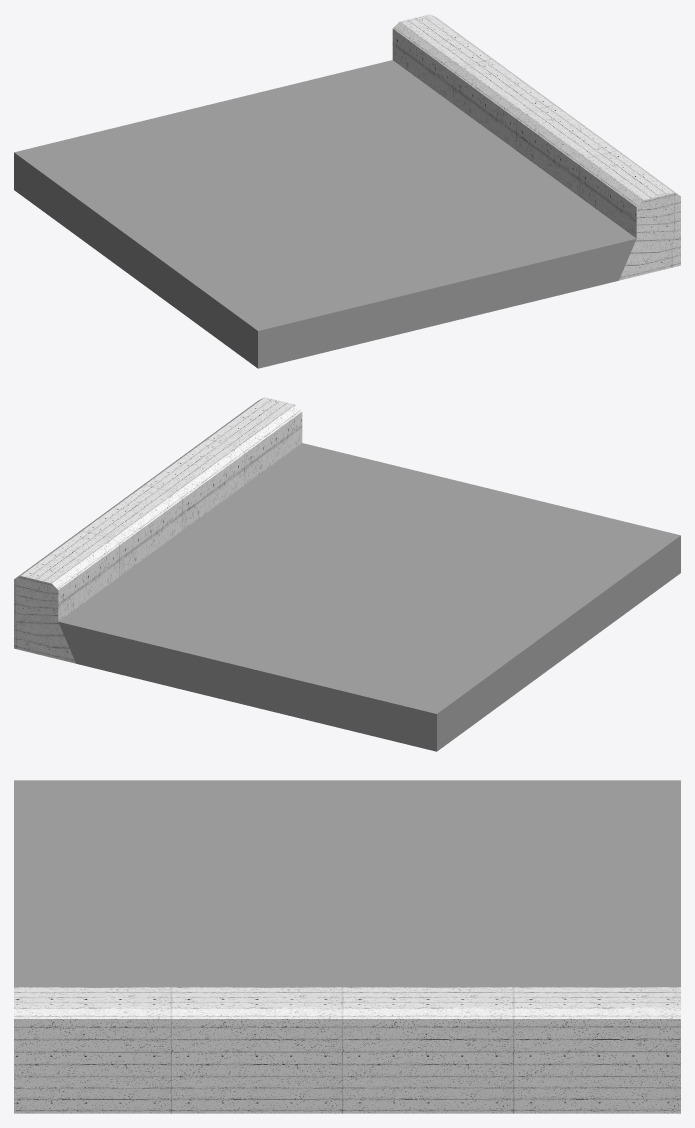
File: three quarter planter.fbx
3 renders of one model, top to bottom at view 1: azimuth 30°, elevation 25°; view 2: azimuth 150°, elevation 25°; view 3: azimuth 270°, elevation 25°, orthographic. The views are drawn at different scales.
Visible parts, largest first — view 1: planter2; view 2: planter2; view 3: planter2.
Part boxes in pixels (bbox=[...]): planter2: bbox=[14, 14, 680, 368]; planter2: bbox=[14, 397, 680, 751]; planter2: bbox=[14, 780, 680, 1113].
Bounding box in the file's own units: 300 × 50.38 × 300.
